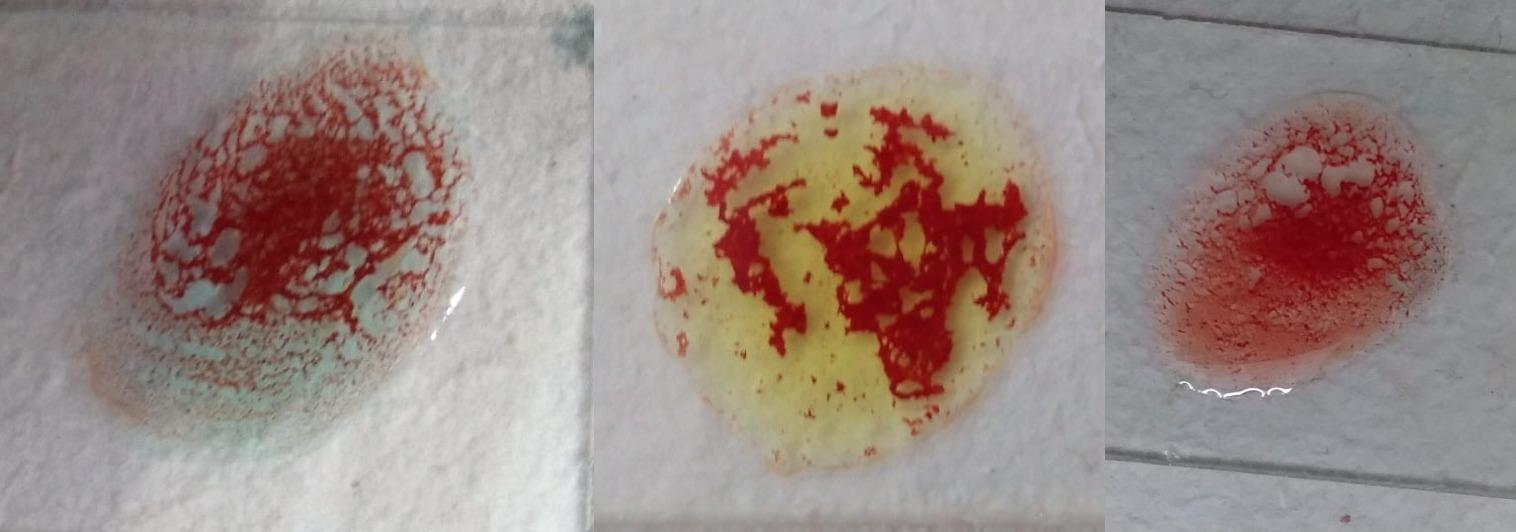A: (99, 27, 461, 454)
B: (659, 56, 1051, 488)
D: (1137, 96, 1452, 411)
